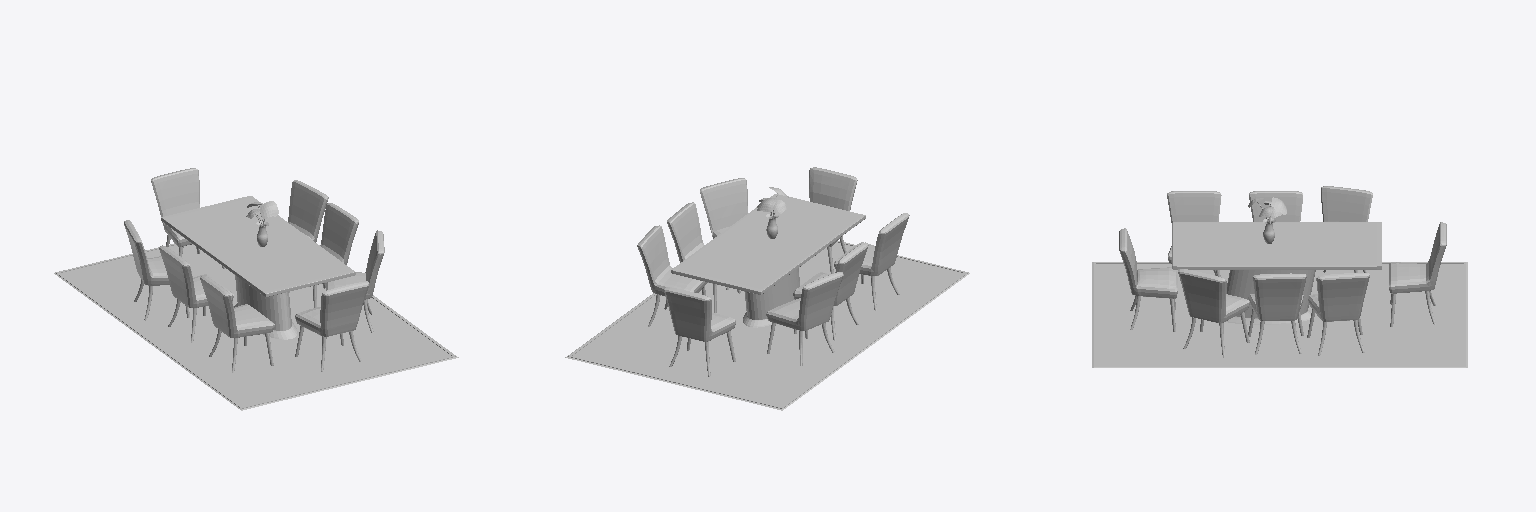
The model's file is tableOBJ.obj.
The picture shows the model from 3 angles: view 1: azimuth 30°, elevation 25°; view 2: azimuth 150°, elevation 25°; view 3: azimuth 270°, elevation 25°; orthographic projection.
Visible parts, largest first — view 1: Plane.001, mesajantar_Plane.007, cadeirajantar_Circle.017, cadeirajantar.006_Circle.010, cadeirajantar.007_Circle.012, cadeirajantar.005_Circle.009, cadeirajantar.003_Circle.003, cadeirajantar.002_Circle.002, cadeirajantar.004_Circle.008, cadeirajantar.001_Circle.001; view 2: Plane.001, mesajantar_Plane.007, cadeirajantar.007_Circle.012, cadeirajantar.004_Circle.008, cadeirajantar.003_Circle.003, cadeirajantar.001_Circle.001, cadeirajantar.006_Circle.010, cadeirajantar_Circle.017, cadeirajantar.002_Circle.002, cadeirajantar.005_Circle.009; view 3: Plane.001, mesajantar_Plane.007, cadeirajantar.001_Circle.001, cadeirajantar.003_Circle.003, cadeirajantar.002_Circle.002, cadeirajantar_Circle.017, cadeirajantar.007_Circle.012, cadeirajantar.004_Circle.008, cadeirajantar.006_Circle.010, cadeirajantar.005_Circle.009.
Boxes of the visible parts, box(x1,y1,x2,y2) form: Plane.001: box(54, 243, 458, 410); mesajantar_Plane.007: box(161, 196, 355, 339); cadeirajantar_Circle.017: box(295, 281, 369, 371); cadeirajantar.006_Circle.010: box(200, 275, 274, 372); cadeirajantar.007_Circle.012: box(151, 168, 224, 268); cadeirajantar.005_Circle.009: box(159, 245, 233, 342); cadeirajantar.003_Circle.003: box(288, 180, 328, 292); cadeirajantar.002_Circle.002: box(313, 203, 358, 307); cadeirajantar.004_Circle.008: box(124, 220, 189, 320); cadeirajantar.001_Circle.001: box(325, 230, 384, 332); Plane.001: box(565, 241, 969, 410); mesajantar_Plane.007: box(671, 194, 865, 327); cadeirajantar.007_Circle.012: box(664, 287, 735, 376); cadeirajantar.004_Circle.008: box(766, 272, 843, 365); cadeirajantar.003_Circle.003: box(637, 225, 707, 326); cadeirajantar.001_Circle.001: box(700, 178, 747, 289); cadeirajantar.006_Circle.010: box(834, 213, 909, 310); cadeirajantar_Circle.017: box(809, 167, 857, 273); cadeirajantar.002_Circle.002: box(667, 202, 740, 312); cadeirajantar.005_Circle.009: box(793, 242, 868, 340); Plane.001: box(1092, 262, 1467, 367); mesajantar_Plane.007: box(1172, 222, 1381, 324); cadeirajantar.001_Circle.001: box(1178, 269, 1249, 357); cadeirajantar.003_Circle.003: box(1307, 273, 1369, 355); cadeirajantar.002_Circle.002: box(1248, 273, 1306, 354); cadeirajantar_Circle.017: box(1119, 228, 1177, 331); cadeirajantar.007_Circle.012: box(1389, 222, 1446, 326); cadeirajantar.004_Circle.008: box(1321, 186, 1372, 272); cadeirajantar.006_Circle.010: box(1167, 191, 1221, 276); cadeirajantar.005_Circle.009: box(1249, 191, 1302, 221).
Size of the model in its own units: 10.09 by 5.31 by 15.13.